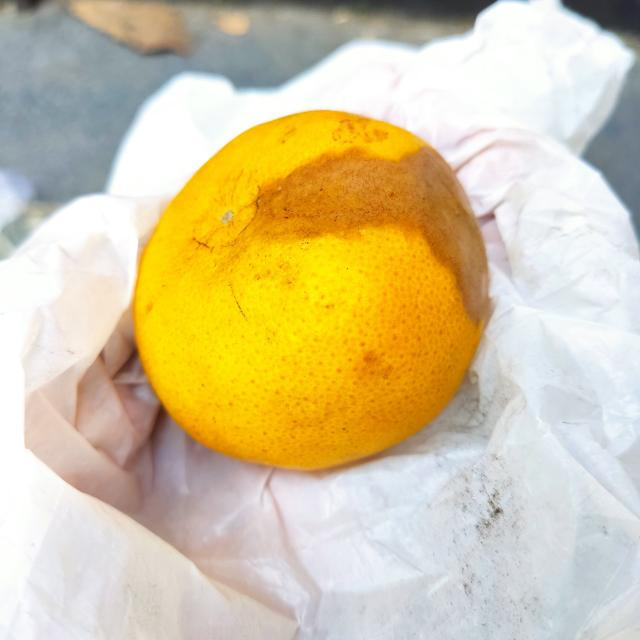orange: (128, 111, 491, 469)
